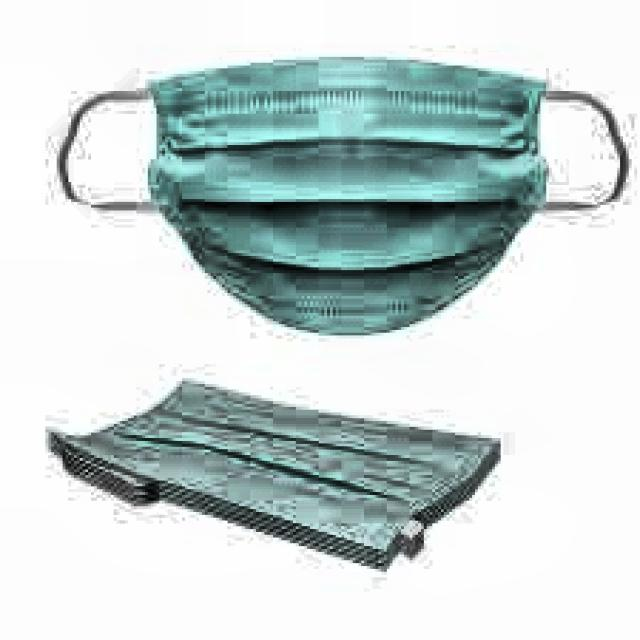trash: (53, 50, 549, 339), (46, 371, 504, 574)
